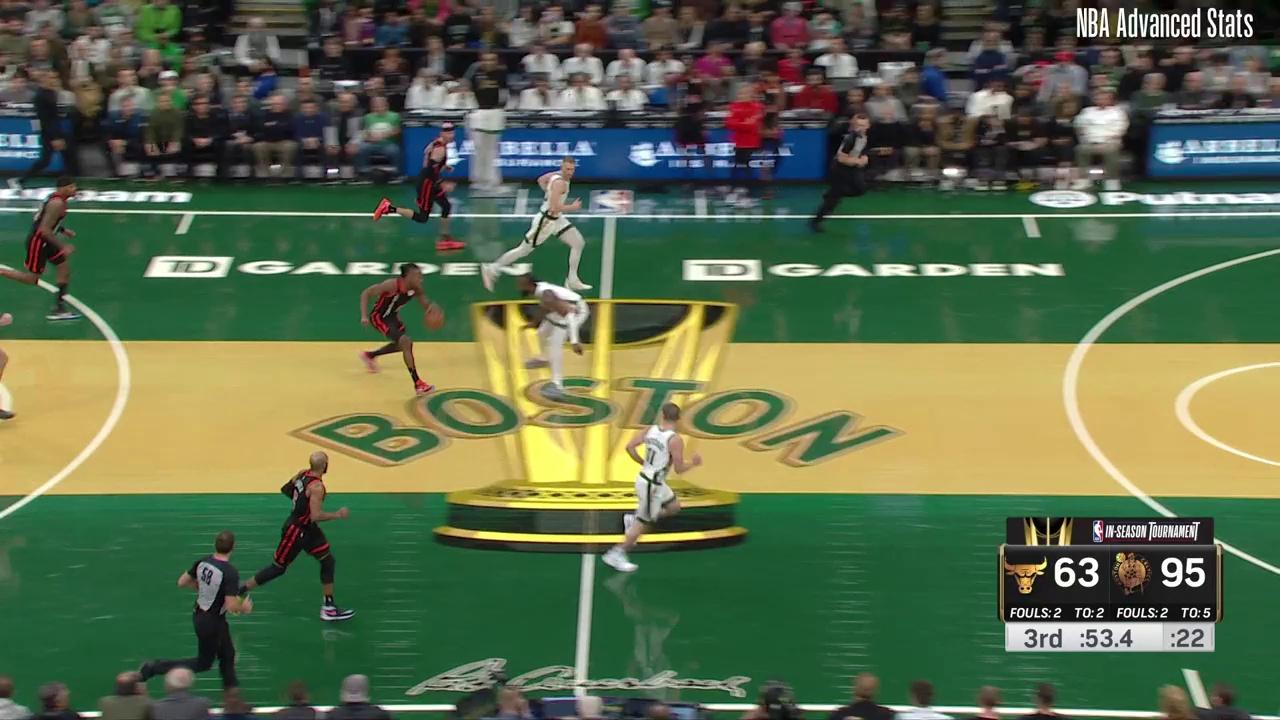half_dx: (604, 212, 616, 223)
mid_dx: (1028, 230, 1043, 244)
mid_sx: (1180, 663, 1198, 678), (175, 230, 185, 239)
referee: (125, 530, 254, 695), (809, 114, 875, 234)
team: (601, 403, 704, 572), (483, 153, 592, 292), (517, 272, 593, 397)
team1: (237, 448, 354, 623), (0, 175, 87, 323), (376, 119, 469, 250), (357, 263, 440, 394)
timer: (1074, 621, 1138, 653)
